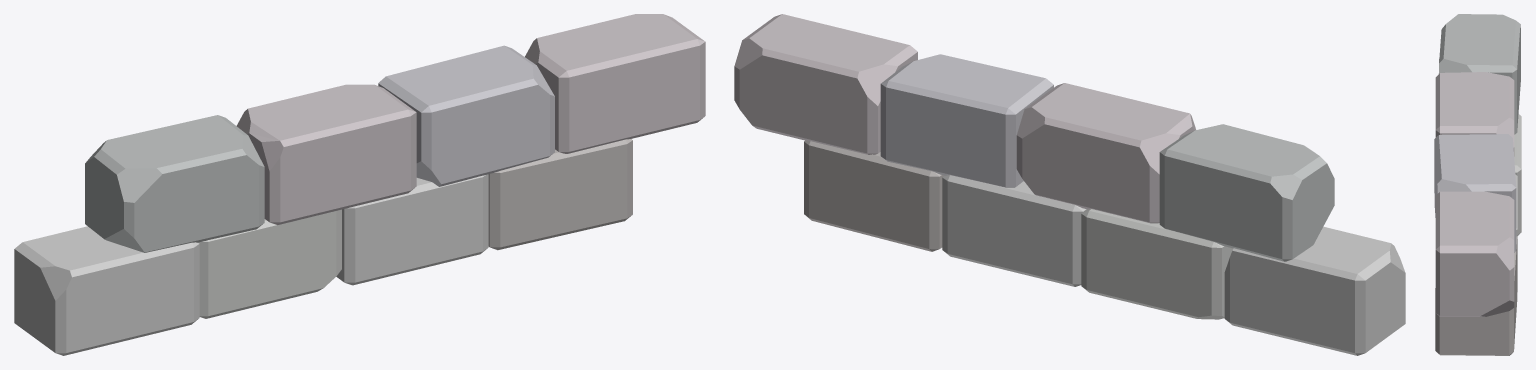
The model's file is Rock_Blocks_m_04.fbx.
3 renders of one model, left to right at view 1: azimuth 30°, elevation 25°; view 2: azimuth 150°, elevation 25°; view 3: azimuth 270°, elevation 25°, orthographic. The views are drawn at different scales.
Parts seen in each view (by area): view 1: Rock_Blocks_m_04; view 2: Rock_Blocks_m_04; view 3: Rock_Blocks_m_04.
Part boxes in pixels (bbox=[...]): Rock_Blocks_m_04: bbox=[14, 14, 705, 355]; Rock_Blocks_m_04: bbox=[734, 14, 1405, 355]; Rock_Blocks_m_04: bbox=[1434, 14, 1521, 355].
Size of the model in its own units: 510 by 124 by 69.93.
